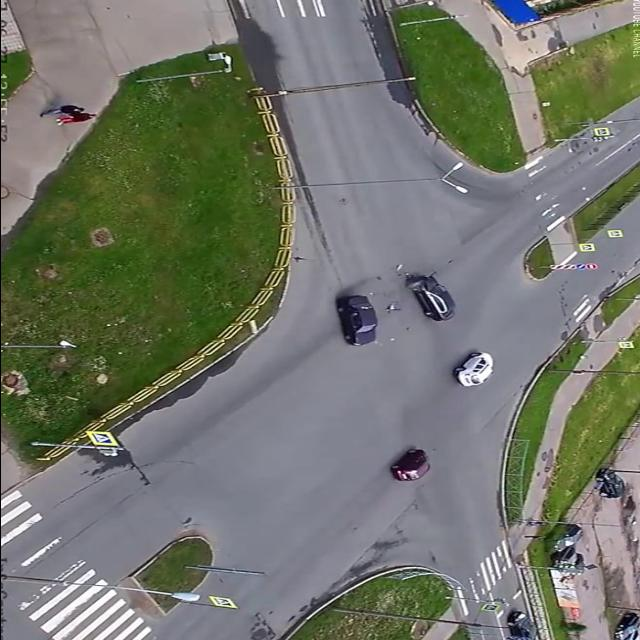accident: (328, 272, 470, 352)
